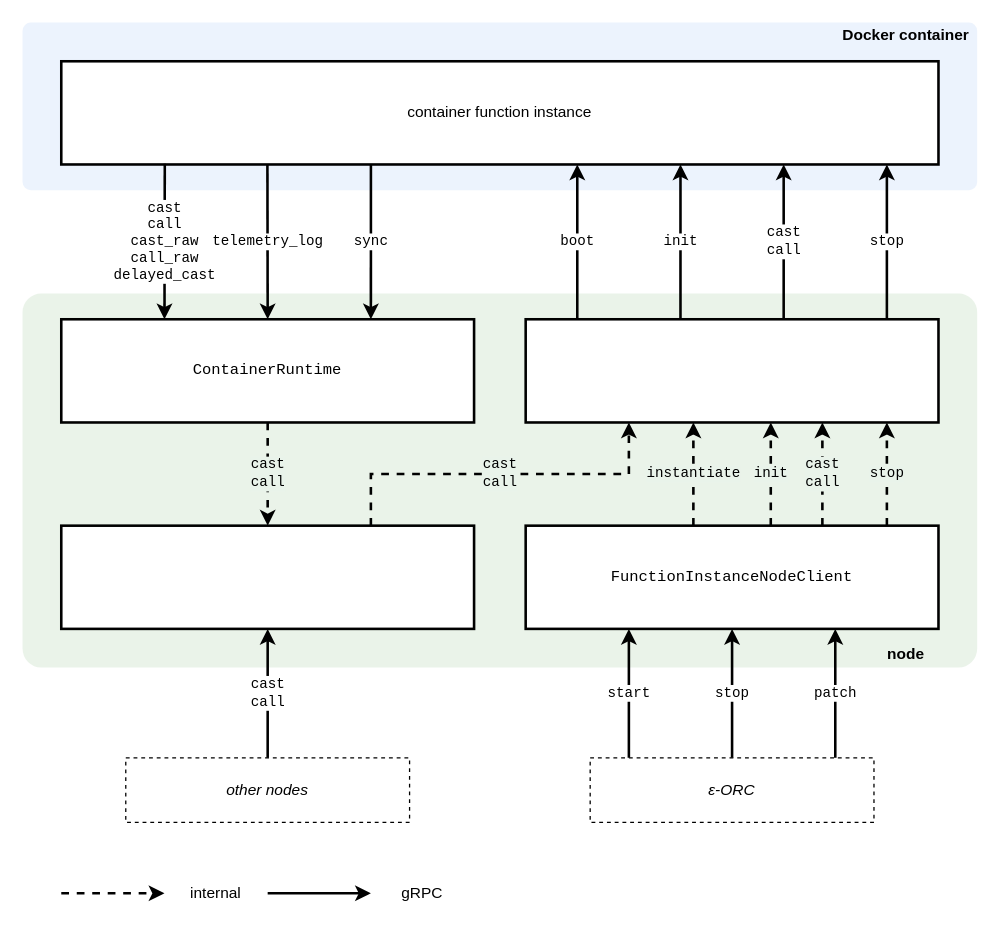
The diagram is 998 pixels wide and 934 high, and some of its shapes have lost their labels. The centre of each missing label's shape, as x and y in pixels:
ContainerFunctionInstance: [731,370]
data plane: [267,577]
